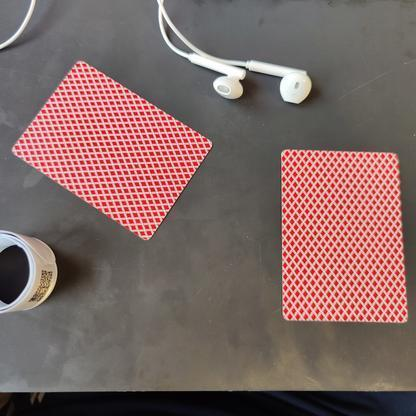card: (10, 58, 216, 241), (268, 139, 414, 334)
